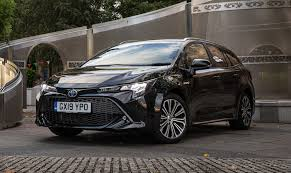Toyota: (38, 44, 243, 127)
